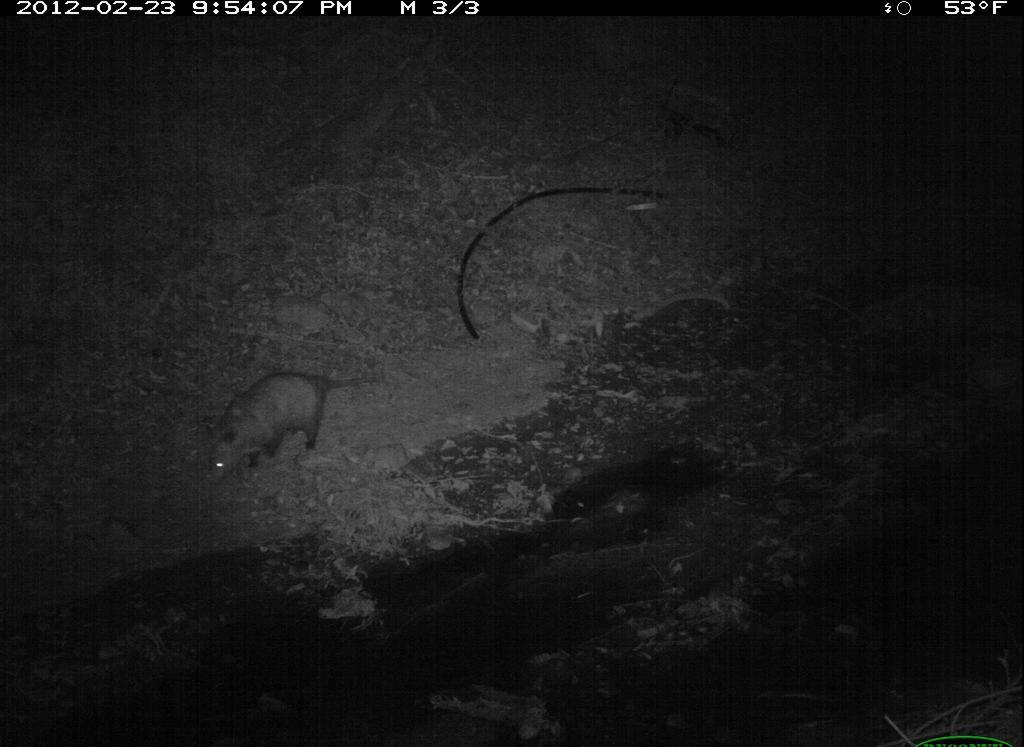opossum: (199, 360, 397, 492)
